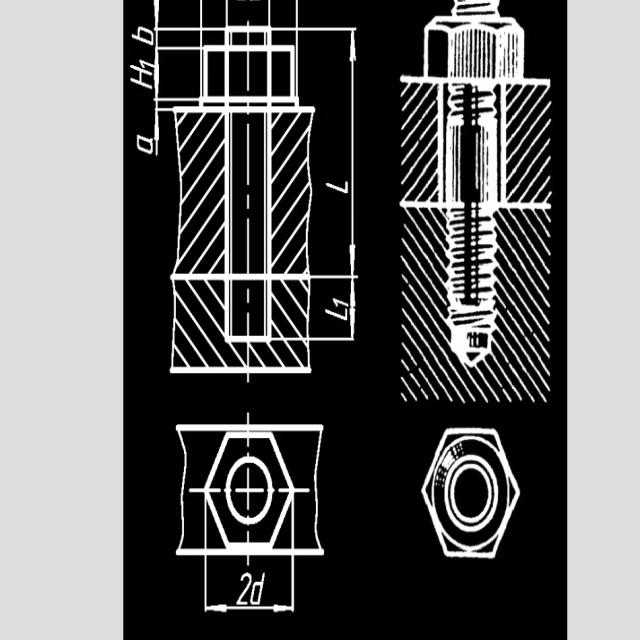marking_line: (347, 33, 356, 271), (206, 602, 290, 614)
